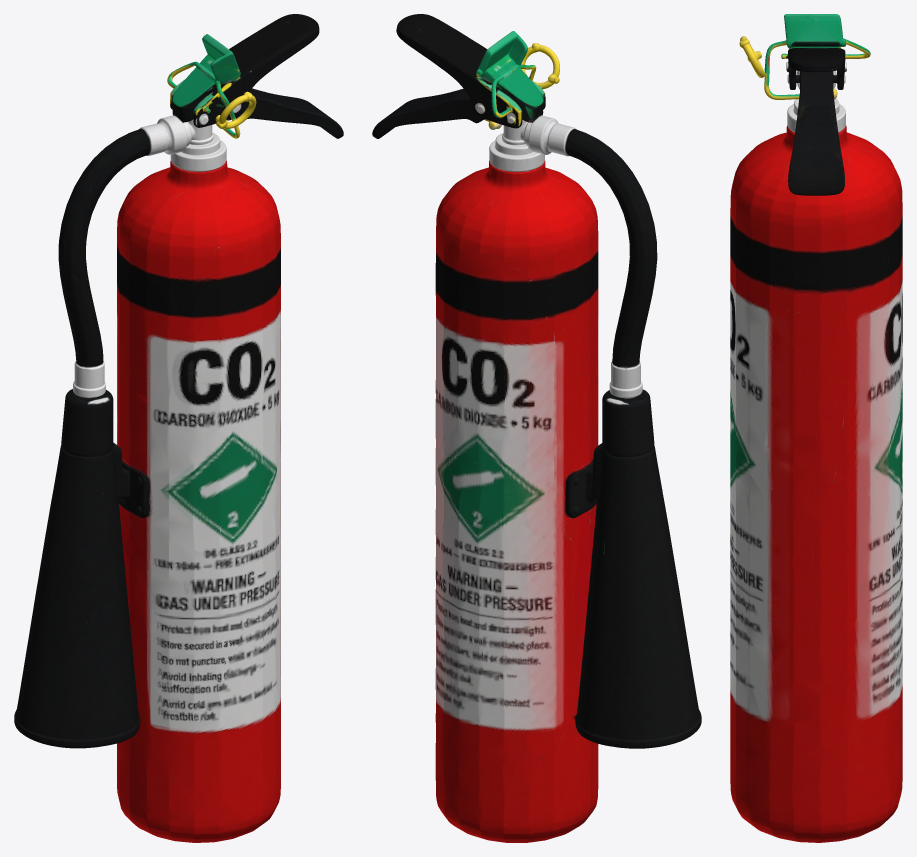
File: insp_co2.glb
3 views of the same model, side by side, from view 1: azimuth 30°, elevation 25°; view 2: azimuth 150°, elevation 25°; view 3: azimuth 270°, elevation 25° (orthographic). The views are drawn at different scales.
Size of the model in its own units: 0.7971 by 1.9 by 0.3646.
1 material, 1 textured.
